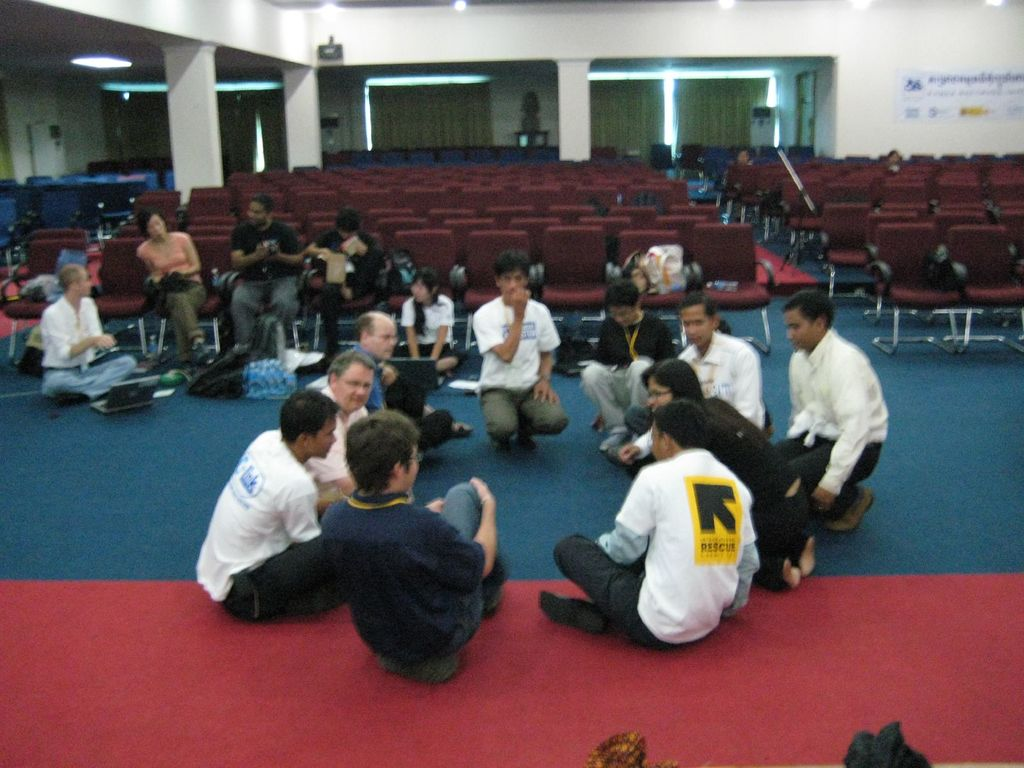Person: (40, 147, 898, 683)
